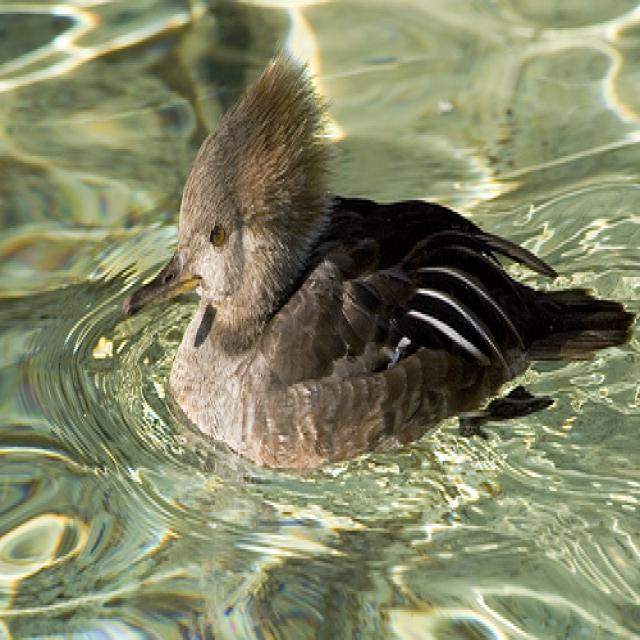bird: (123, 38, 633, 476)
